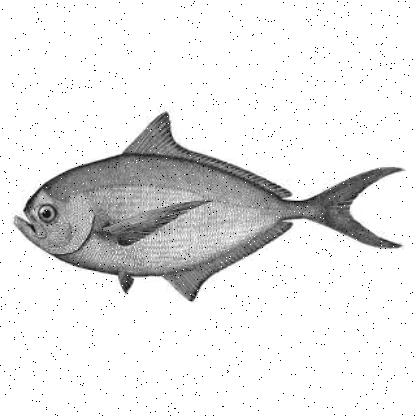ikan-pacu: (15, 110, 405, 302)
